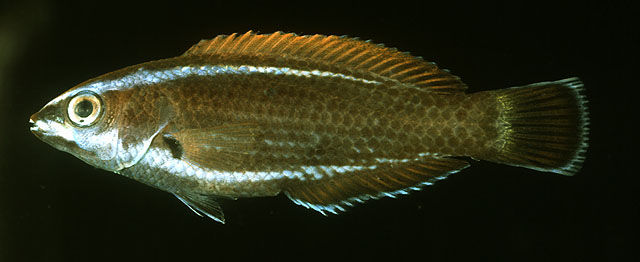fish: (28, 30, 591, 226)
